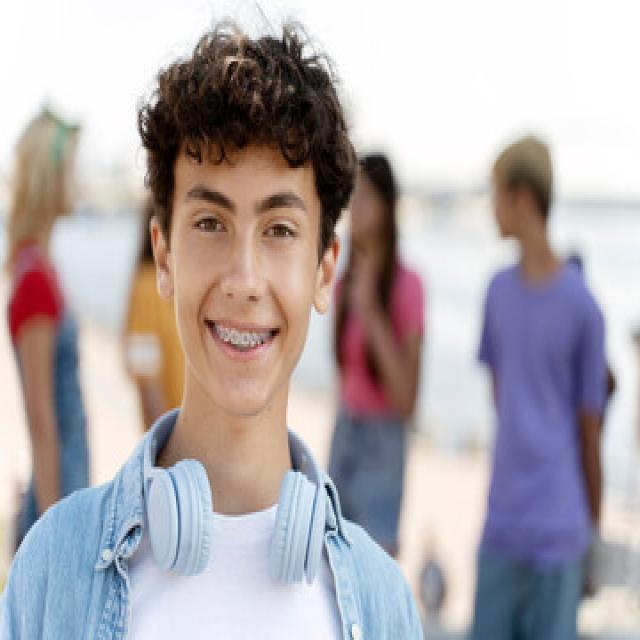Headphone: (142, 404, 328, 588)
